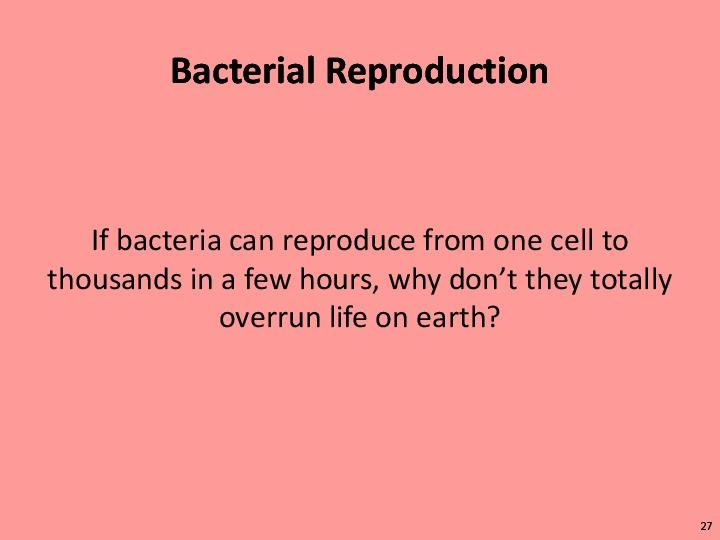paragraph: (35, 188, 686, 366)
title: (166, 51, 571, 96)
